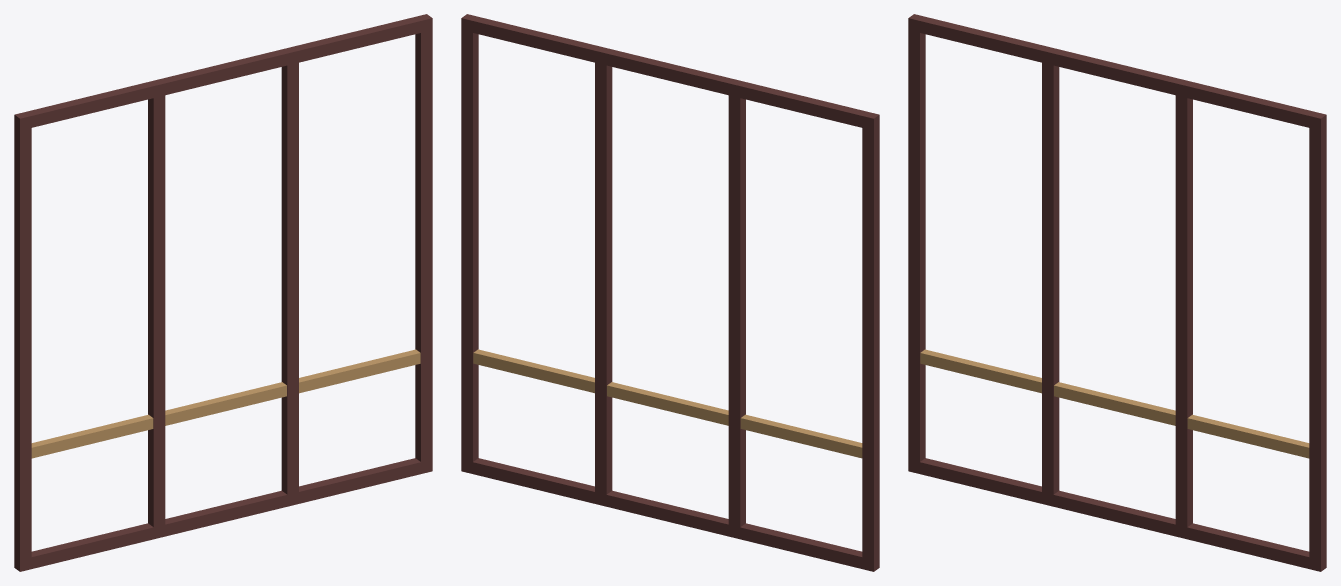
File: DBK_WinBig_Metal_Full.fbx
3 renders of one model, left to right at view 1: azimuth 30°, elevation 25°; view 2: azimuth 150°, elevation 25°; view 3: azimuth 330°, elevation 25°, orthographic.
Visible parts, largest first — view 1: DBK_WinBig_Metal_Full; view 2: DBK_WinBig_Metal_Full; view 3: DBK_WinBig_Metal_Full.
Boxes of the visible parts, x1,y1,x2,y2 form: DBK_WinBig_Metal_Full: [14, 14, 432, 571]; DBK_WinBig_Metal_Full: [461, 14, 879, 571]; DBK_WinBig_Metal_Full: [908, 14, 1326, 571].
Size of the model in its own units: 200 by 210 by 4.75.
